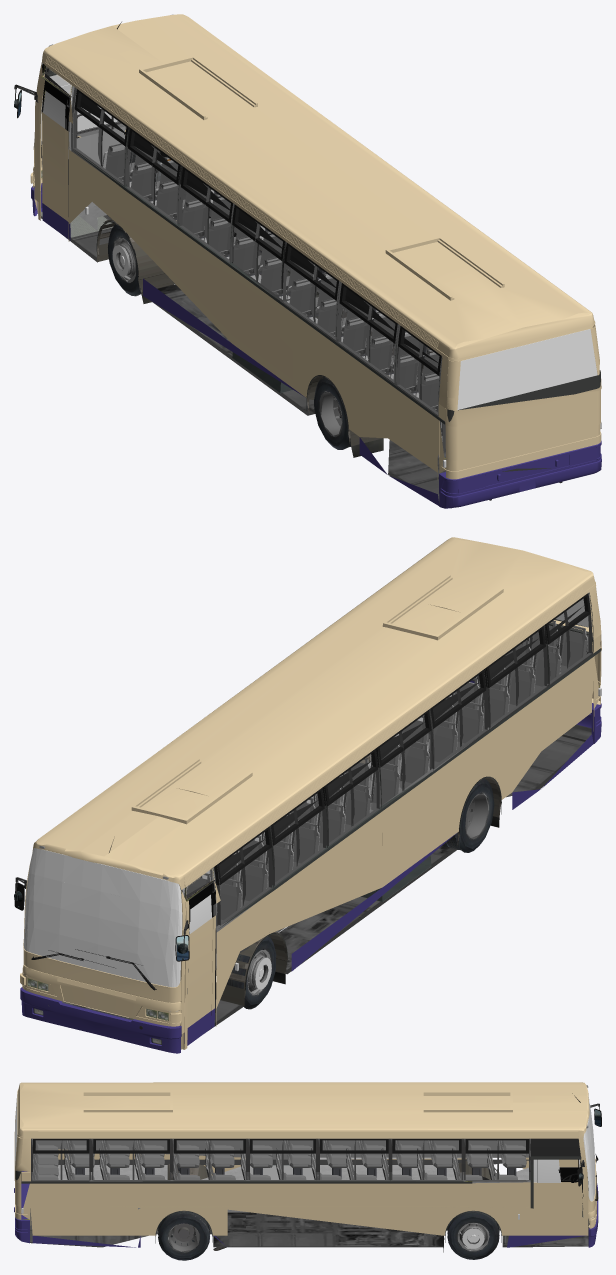
The model's file is citybus.glb.
3 views of the same model, one above another, from view 1: azimuth 30°, elevation 25°; view 2: azimuth 150°, elevation 25°; view 3: azimuth 270°, elevation 25° (orthographic). The views are drawn at different scales.
Parts seen in each view (by area): view 1: G-__556545.001, G-__558597, G-__555717, G-__555735; view 2: G-__556545.001, G-__558597, G-__555717, G-__555735; view 3: G-__556545.001, G-__556257.001, G-__555636, G-__555762, G-__558597.
Part boxes in pixels (left/top/right/bottom): G-__556545.001: left=14, top=14, right=601, bottom=508; G-__558597: left=42, top=79, right=70, bottom=240; G-__555717: left=314, top=377, right=350, bottom=449; G-__555735: left=108, top=224, right=140, bottom=296; G-__556545.001: left=14, top=537, right=601, bottom=1053; G-__558597: left=187, top=881, right=215, bottom=1045; G-__555717: left=442, top=778, right=494, bottom=852; G-__555735: left=226, top=936, right=276, bottom=1009; G-__556545.001: left=14, top=1082, right=601, bottom=1252; G-__556257.001: left=530, top=1156, right=583, bottom=1216; G-__555636: left=158, top=1211, right=210, bottom=1260; G-__555762: left=447, top=1211, right=499, bottom=1259; G-__558597: left=559, top=1159, right=579, bottom=1182.
Bounding box in the file's own units: 3.03 × 3.24 × 12.19.
72 materials, 45 textured.
